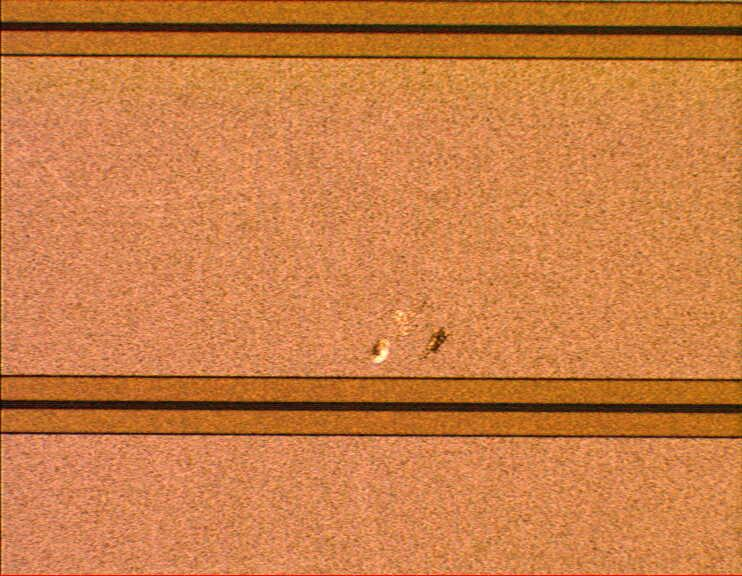SCRATCH: (344, 293, 458, 375)
